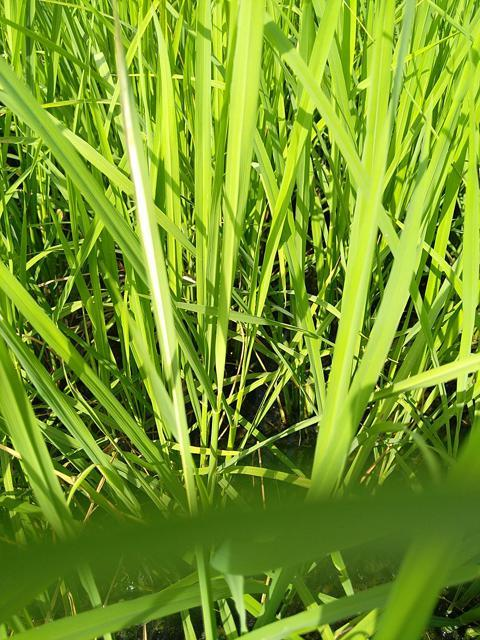Leaf Blight: (115, 14, 187, 446)
